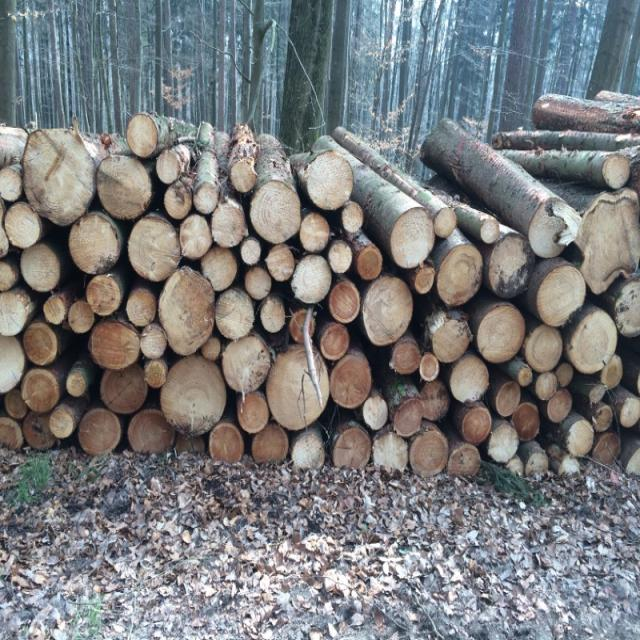wood-log: (23, 132, 96, 228), (578, 194, 638, 293), (264, 346, 328, 428), (162, 357, 229, 434), (161, 268, 217, 354), (360, 278, 412, 348), (128, 214, 182, 279), (95, 160, 151, 222), (537, 262, 588, 326), (249, 183, 302, 244), (566, 313, 617, 376), (70, 213, 121, 274), (220, 334, 270, 392), (477, 306, 526, 365), (439, 244, 484, 308), (487, 234, 531, 299), (308, 154, 356, 212), (391, 209, 437, 269), (529, 197, 571, 261), (90, 319, 140, 371), (100, 365, 148, 414), (331, 351, 372, 406), (128, 409, 175, 453), (293, 254, 334, 304), (213, 290, 254, 340), (21, 242, 61, 292), (430, 314, 470, 364), (80, 408, 122, 455), (448, 356, 489, 404), (409, 429, 448, 478), (2, 202, 42, 248), (525, 325, 562, 373), (200, 247, 239, 292), (334, 426, 372, 471), (22, 368, 60, 413), (209, 202, 247, 247), (371, 427, 406, 473), (22, 322, 58, 366), (329, 279, 363, 325), (253, 424, 290, 466), (0, 333, 26, 392), (0, 288, 33, 334), (418, 378, 452, 421), (180, 214, 213, 258), (208, 423, 244, 462), (87, 275, 122, 315), (126, 116, 160, 157), (237, 392, 270, 434), (487, 421, 519, 463), (290, 432, 323, 472), (299, 214, 331, 253), (126, 289, 157, 329), (618, 280, 640, 336), (392, 398, 423, 437), (318, 324, 349, 362), (449, 443, 482, 478), (267, 244, 297, 282), (392, 339, 422, 376), (23, 413, 53, 450), (464, 407, 493, 444), (565, 419, 594, 456), (139, 324, 168, 361), (512, 403, 540, 441), (362, 394, 390, 432), (602, 151, 630, 188), (261, 295, 288, 333), (67, 300, 96, 334), (165, 185, 193, 220), (244, 266, 273, 299), (497, 381, 522, 417), (357, 245, 382, 280), (329, 240, 354, 275), (194, 184, 221, 215), (2, 389, 28, 421), (50, 406, 76, 438), (157, 152, 183, 184), (42, 294, 68, 326), (548, 391, 572, 424), (601, 356, 623, 391), (341, 202, 364, 234), (0, 416, 21, 451), (413, 263, 435, 295), (0, 168, 21, 200), (436, 206, 458, 236), (620, 396, 640, 427), (535, 372, 556, 401), (419, 352, 440, 380), (201, 335, 223, 361), (66, 370, 87, 397), (242, 237, 262, 265), (0, 260, 17, 292), (593, 404, 612, 432), (555, 362, 575, 388), (517, 364, 535, 388), (0, 226, 9, 258)
